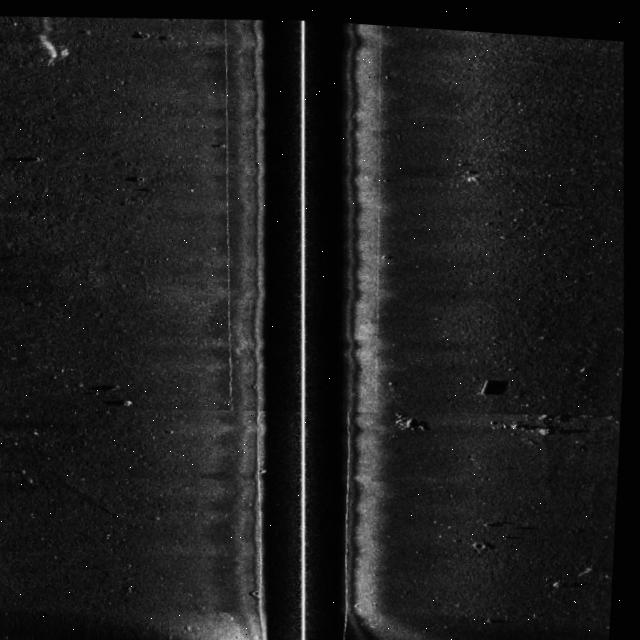mine: (481, 367, 517, 393)
